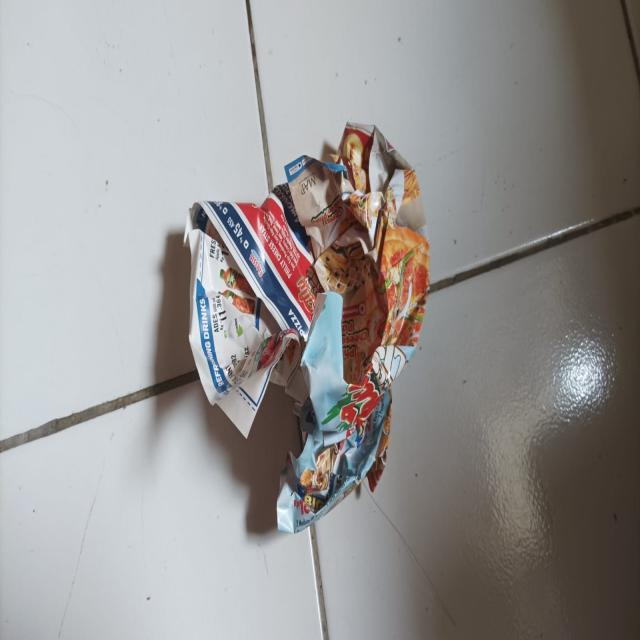Organik: (187, 119, 435, 536)
